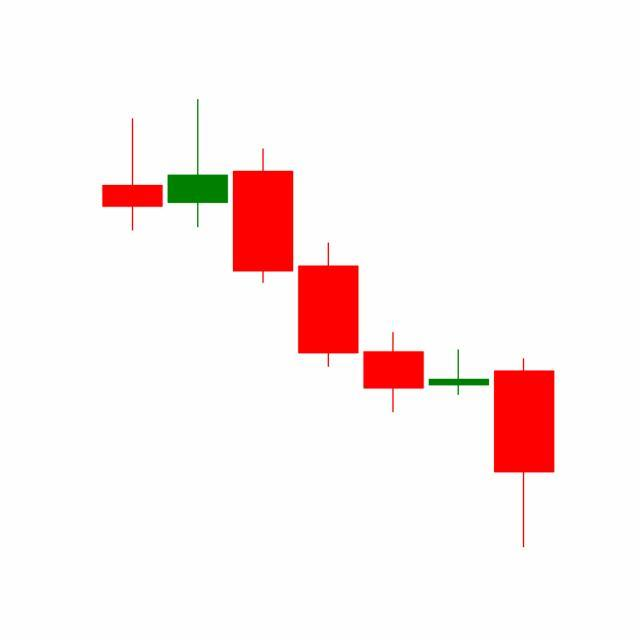Hikkake Pattern: (229, 144, 555, 549)
